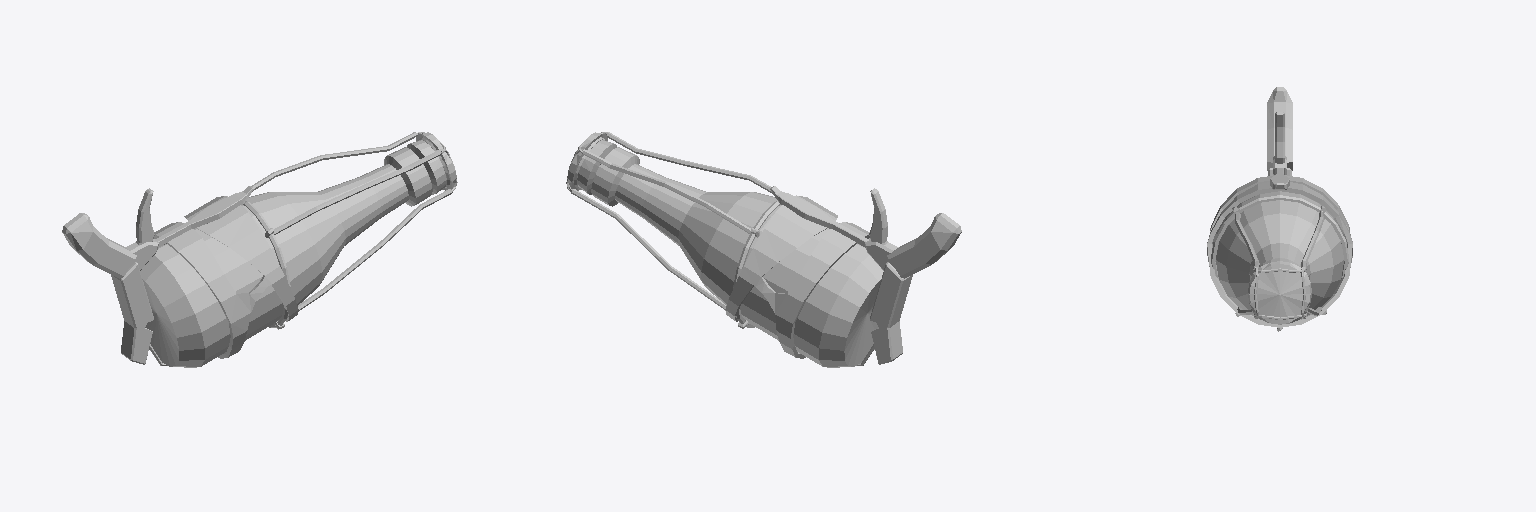
The model's file is squeezer.obj.
3 renders of one model, left to right at view 1: azimuth 30°, elevation 25°; view 2: azimuth 150°, elevation 25°; view 3: azimuth 270°, elevation 25°, orthographic.
Parts seen in each view (by area): view 1: Wmn_Shooter_Flash__M_Body; view 2: Wmn_Shooter_Flash__M_Body; view 3: Wmn_Shooter_Flash__M_Body.
Boxes of the visible parts, x1=… form: Wmn_Shooter_Flash__M_Body: x1=62, y1=132, x2=457, y2=367; Wmn_Shooter_Flash__M_Body: x1=566, y1=132, x2=961, y2=367; Wmn_Shooter_Flash__M_Body: x1=1207, y1=87, x2=1352, y2=331.
Size of the model in its own units: 1.24 by 0.5681 by 0.4067.